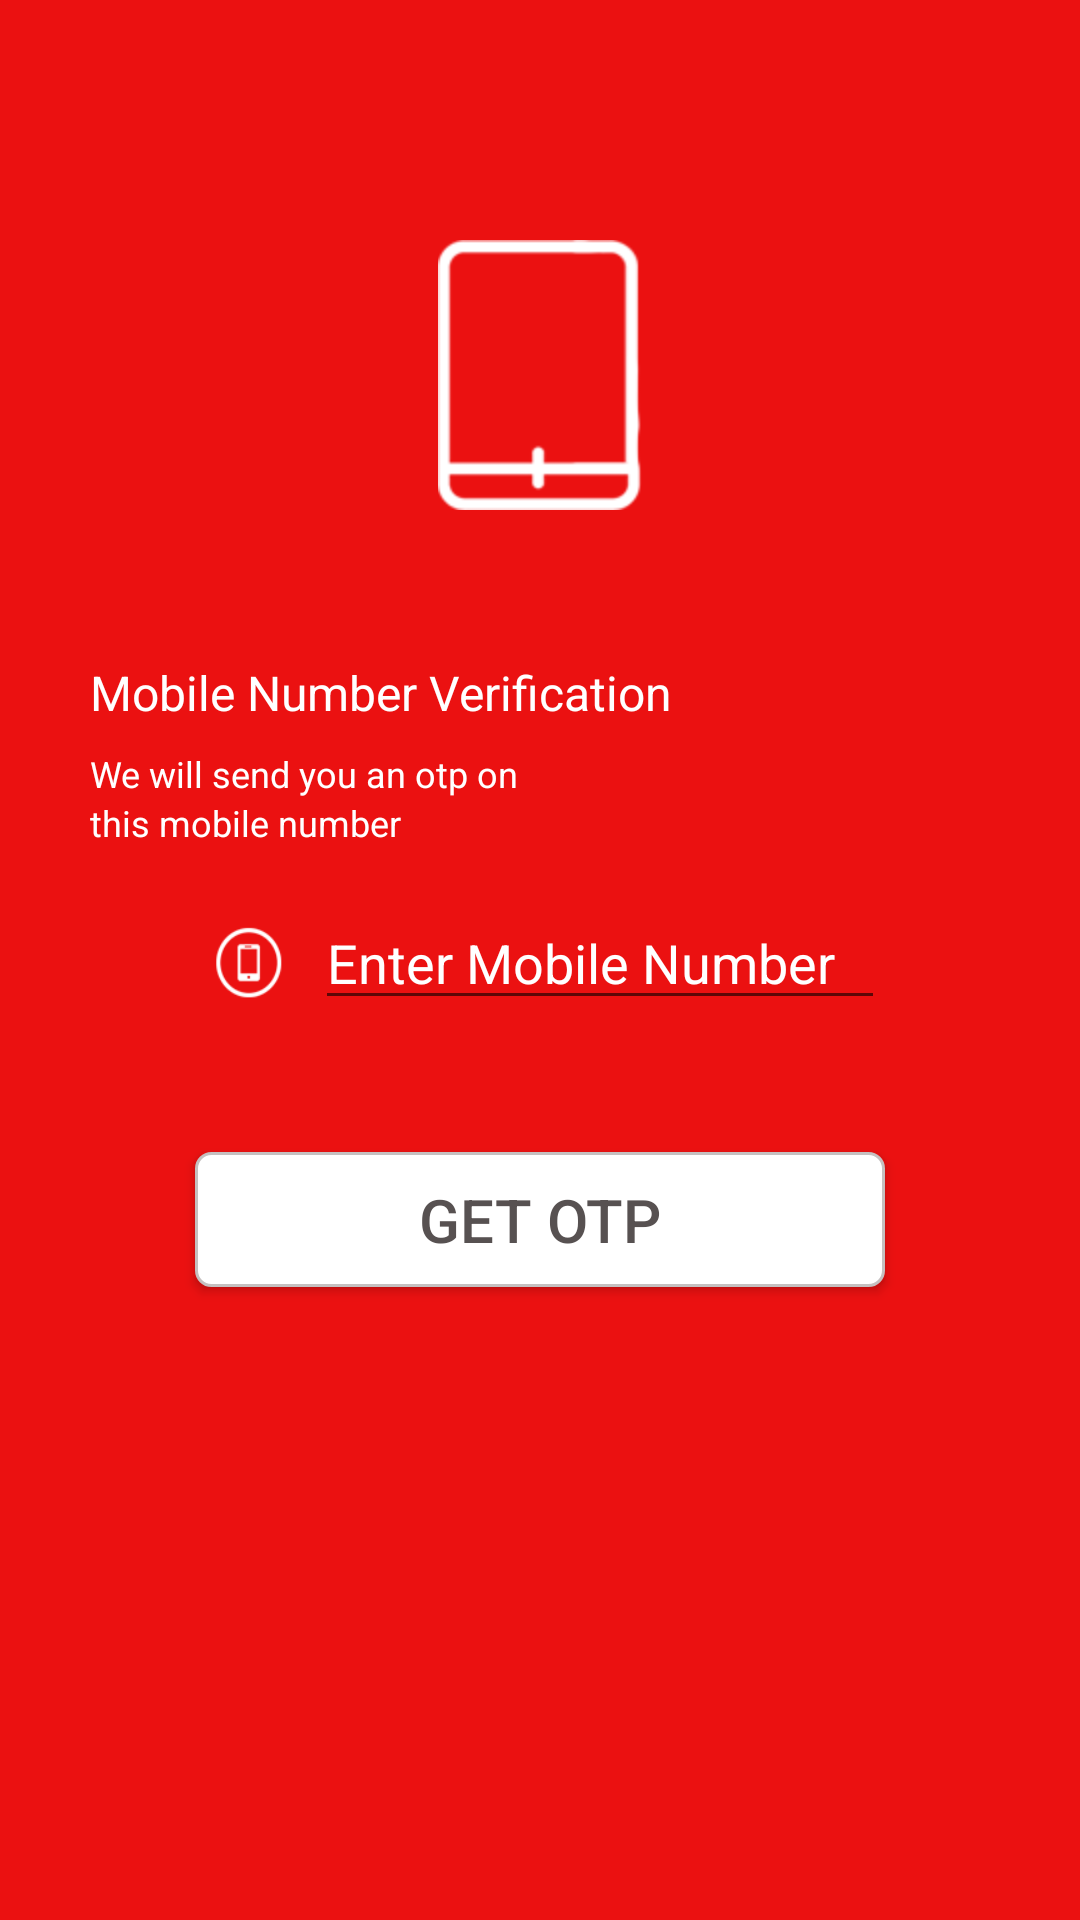

Icons on this 1080x1920 Android screen, each with its box as (x1, y1, x2, y2):
mblcircleicon: (216, 927, 282, 998)
mobileicon: (438, 240, 641, 510)
